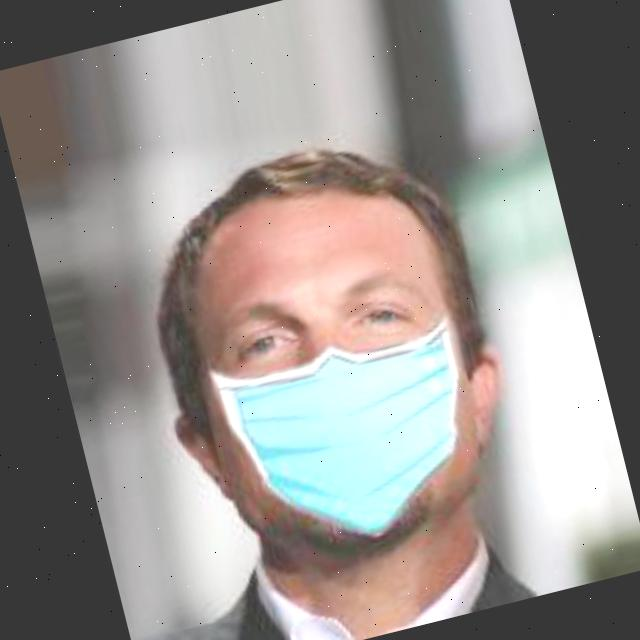suspicion: (80, 102, 538, 622)
